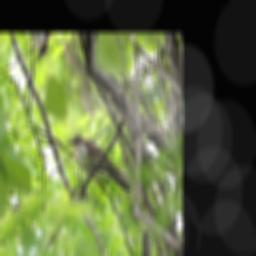Cuckoo: (65, 106, 136, 224)
